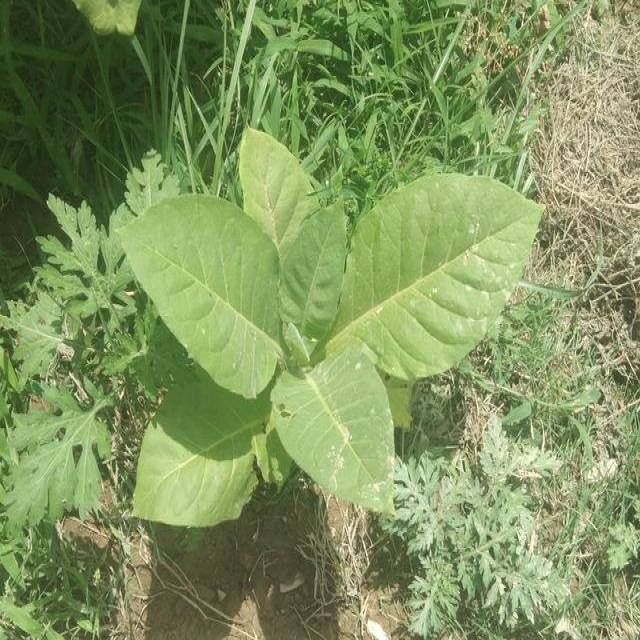crop: (88, 123, 546, 541)
